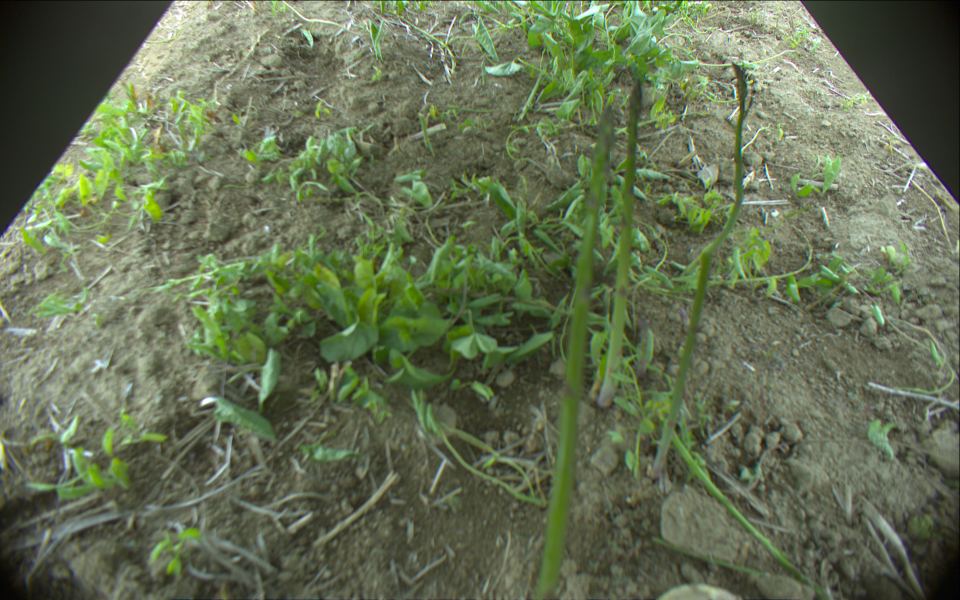aspa: (529, 99, 616, 599), (653, 60, 747, 476), (670, 433, 812, 584), (593, 79, 646, 406), (417, 110, 433, 149)
